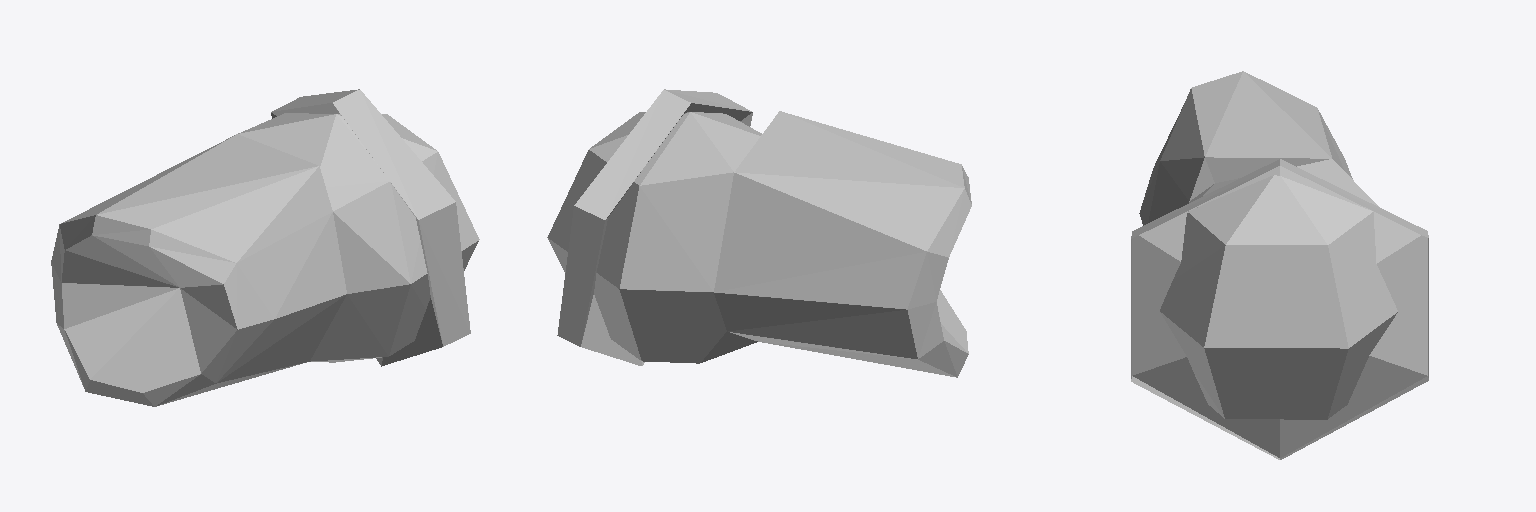
The model's file is buzzlightyRightArm.obj.
The picture shows the model from 3 angles: view 1: azimuth 30°, elevation 25°; view 2: azimuth 150°, elevation 25°; view 3: azimuth 270°, elevation 25°; orthographic projection.
Parts seen in each view (by area): view 1: buzzlightyRightArm_buzzlighty.013; view 2: buzzlightyRightArm_buzzlighty.013; view 3: buzzlightyRightArm_buzzlighty.013.
Part boxes in pixels (left/top/right/bottom): buzzlightyRightArm_buzzlighty.013: left=51, top=89, right=479, bottom=406; buzzlightyRightArm_buzzlighty.013: left=547, top=89, right=971, bottom=377; buzzlightyRightArm_buzzlighty.013: left=1131, top=71, right=1428, bottom=459.
Size of the model in its own units: 0.1718 by 0.1246 by 0.1191.